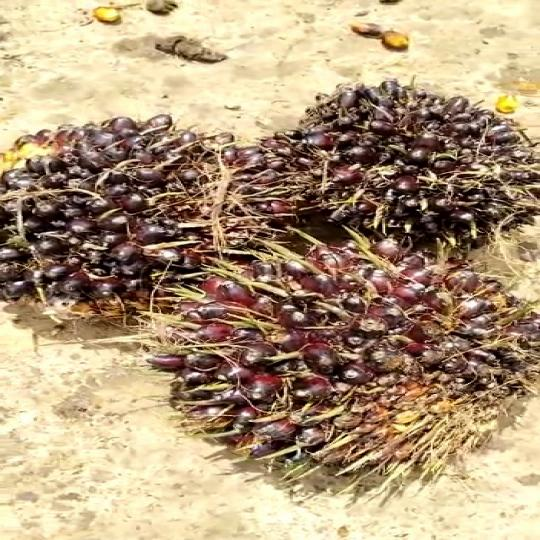mentah: (154, 238, 540, 492), (0, 116, 268, 316), (265, 73, 540, 250)
